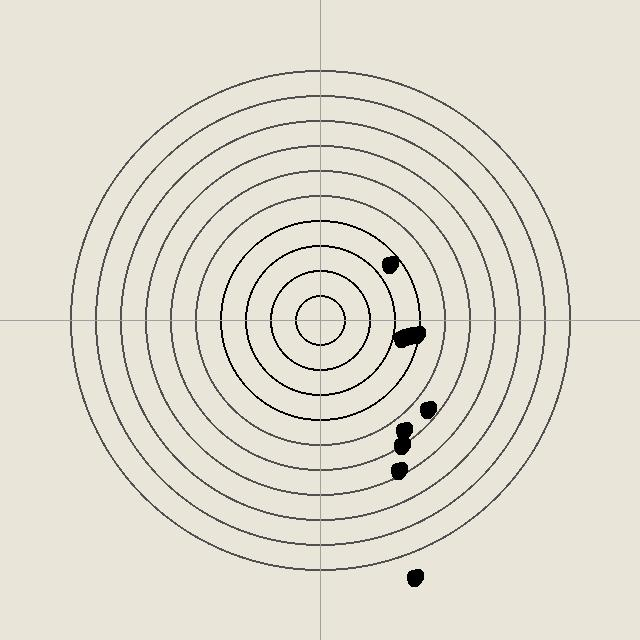vertical_scatter: (379, 254, 399, 274), (406, 324, 426, 344), (404, 567, 424, 587), (395, 326, 415, 346), (399, 325, 419, 345), (391, 328, 411, 348), (391, 435, 411, 455), (417, 399, 437, 419), (393, 420, 413, 440), (388, 460, 408, 480)
